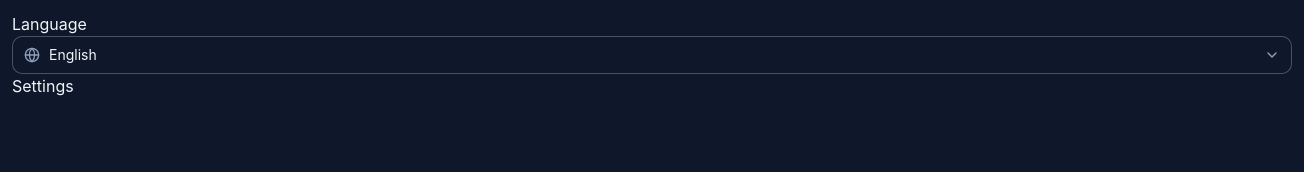
Test case: says so and stays put when the picked language can't be loaded
The image size is (1304, 172).
Select "Dansk" in the dropdown at (652, 55), box [12, 36, 1292, 74]
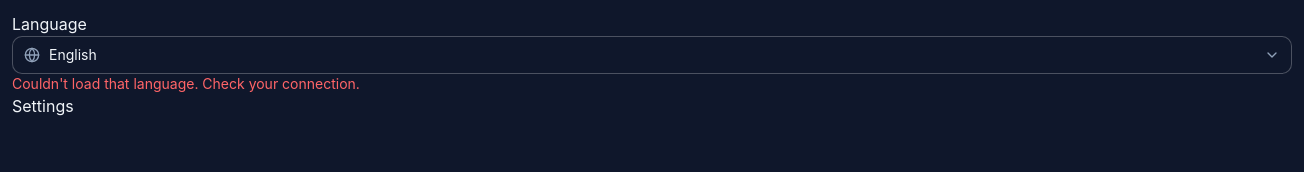
Check: the text "Settings" is shown, box [12, 96, 74, 116]
Check: the message reads "Couldn't load that language. Check your connection.", box [12, 75, 360, 92]
